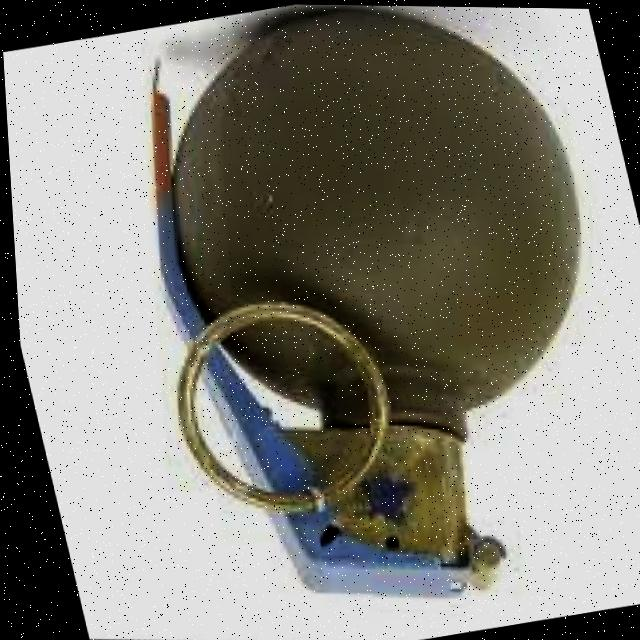grenade: (49, 1, 640, 640)
